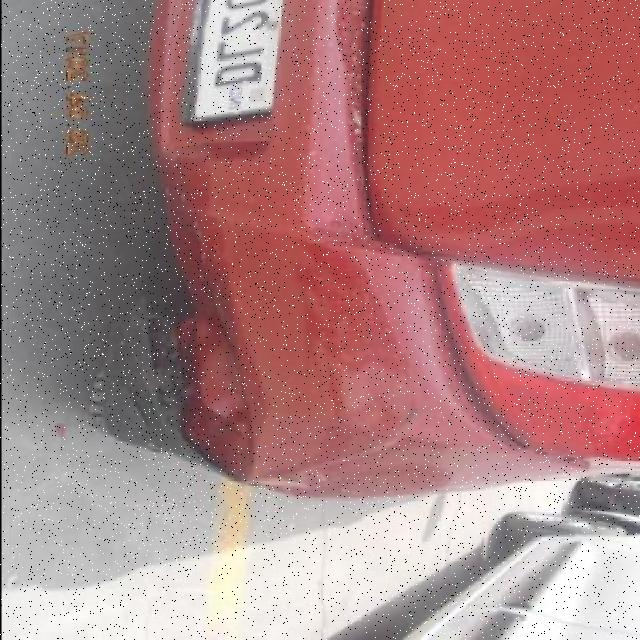damage: (110, 307, 256, 467), (238, 405, 425, 489), (463, 399, 587, 473)
